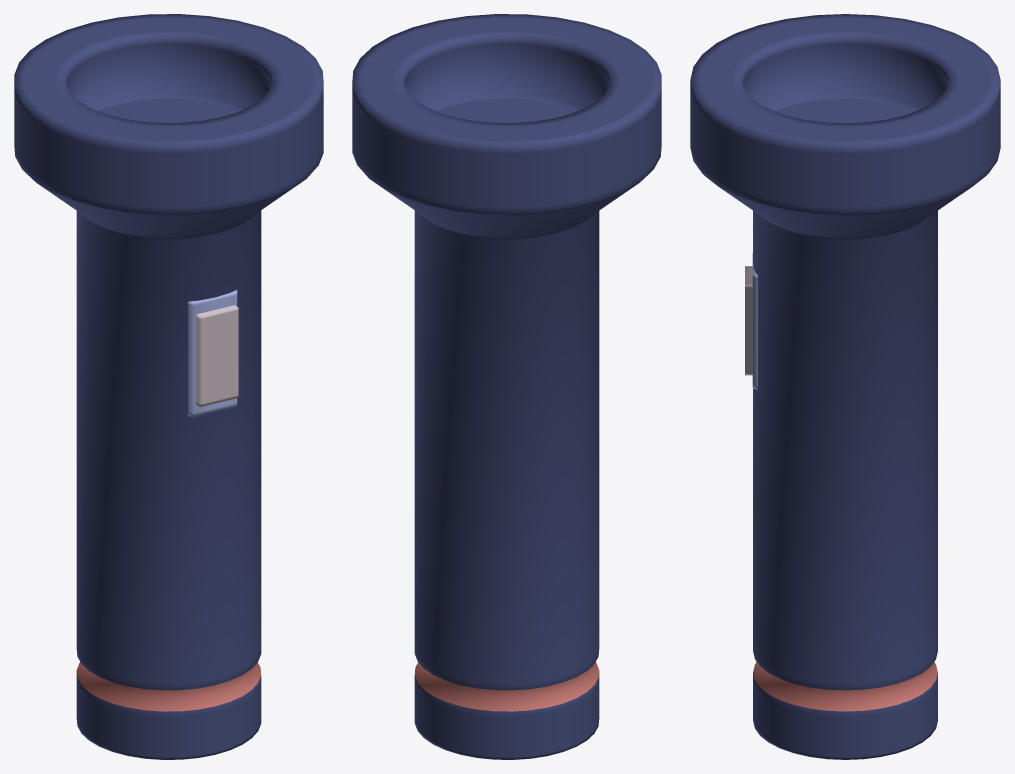
The model's file is lanterna.fbx.
3 renders of one model, left to right at view 1: azimuth 30°, elevation 25°; view 2: azimuth 150°, elevation 25°; view 3: azimuth 270°, elevation 25°, orthographic.
Visible parts, largest first — view 1: Cylinder, Cube, Cube.001; view 2: Cylinder; view 3: Cylinder, Cube, Cube.001.
Boxes of the visible parts, <box> form: Cylinder: <box>14,14,323,759</box>; Cube: <box>196,305,238,406</box>; Cube.001: <box>188,290,237,416</box>; Cylinder: <box>352,14,661,759</box>; Cylinder: <box>690,14,1000,759</box>; Cube: <box>745,266,752,375</box>; Cube.001: <box>752,253,757,389</box>.
Bounding box in the file's own units: 409 × 932 × 409.
